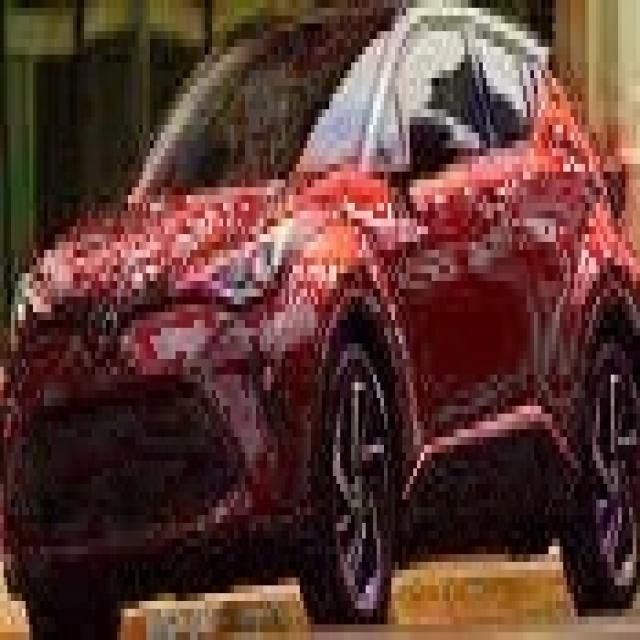maroon: (3, 4, 640, 636)
